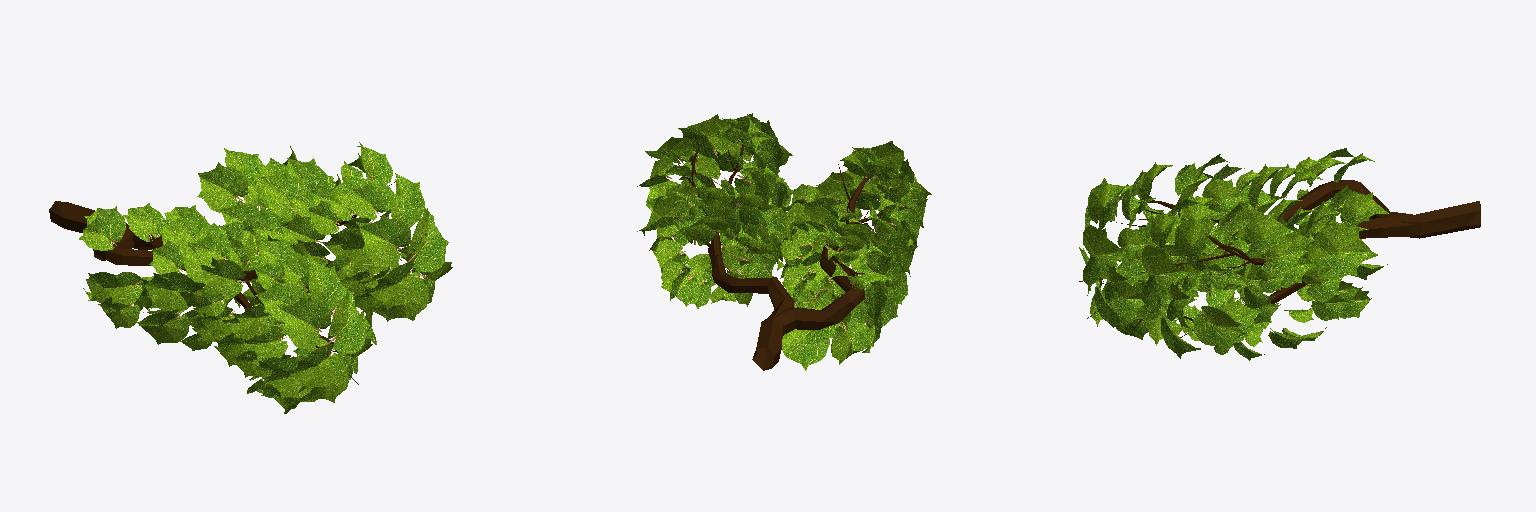
The picture shows the model from 3 angles: view 1: azimuth 30°, elevation 25°; view 2: azimuth 150°, elevation 25°; view 3: azimuth 270°, elevation 25°; orthographic projection.
Parts seen in each view (by area): view 1: tree.001, Circle.221_Circle.226, Circle.200_Circle.204, Circle.031_Circle.032, Circle.202_Circle.206, Circle.180_Circle.224, Circle.220_Circle.225, Circle.201_Circle.205, Circle.009, Circle.089_Circle.090, Circle.077_Circle.078, Circle.064_Circle.065 (+28 smaller); view 2: tree.001, Circle.074_Circle.075, Circle.179_Circle.181, Circle.073_Circle.074, Circle.047_Circle.048, Circle.004, Circle.191_Circle.194, Circle.015, Circle.175_Circle.177, Circle.132_Circle.133, Circle.052_Circle.053, Circle.092_Circle.093 (+9 smaller); view 3: tree.001, Circle.047_Circle.048, Circle.202_Circle.206, Circle.180_Circle.224, Circle.181_Circle.183, Circle.004, Circle.179_Circle.181, Circle.036_Circle.037, Circle.224_Circle.229, Circle.003, Circle.092_Circle.093, Circle.237_Circle.242 (+9 smaller).
Part boxes in pixels (bbox=[...]): tree.001: bbox=[49, 182, 426, 384]; Circle.221_Circle.226: bbox=[276, 296, 331, 348]; Circle.200_Circle.204: bbox=[356, 214, 410, 267]; Circle.031_Circle.032: bbox=[197, 162, 248, 212]; Circle.202_Circle.206: bbox=[407, 208, 448, 272]; Circle.180_Circle.224: bbox=[327, 289, 368, 353]; Circle.220_Circle.225: bbox=[284, 344, 339, 391]; Circle.201_Circle.205: bbox=[363, 263, 419, 309]; Circle.009: bbox=[259, 169, 307, 219]; Circle.089_Circle.090: bbox=[141, 272, 193, 313]; Circle.077_Circle.078: bbox=[201, 257, 245, 298]; Circle.064_Circle.065: bbox=[135, 310, 189, 344]; tree.001: bbox=[678, 135, 884, 370]; Circle.074_Circle.075: bbox=[782, 327, 829, 370]; Circle.179_Circle.181: bbox=[678, 114, 731, 157]; Circle.073_Circle.074: bbox=[831, 321, 873, 364]; Circle.047_Circle.048: bbox=[637, 195, 689, 235]; Circle.004: bbox=[645, 137, 692, 165]; Circle.191_Circle.194: bbox=[760, 209, 793, 261]; Circle.015: bbox=[791, 206, 829, 231]; Circle.175_Circle.177: bbox=[679, 156, 720, 187]; Circle.132_Circle.133: bbox=[734, 262, 773, 306]; Circle.052_Circle.053: bbox=[653, 239, 685, 272]; Circle.092_Circle.093: bbox=[804, 181, 843, 206]; tree.001: bbox=[1079, 180, 1480, 337]; Circle.047_Circle.048: bbox=[1314, 223, 1377, 279]; Circle.202_Circle.206: bbox=[1142, 245, 1188, 304]; Circle.180_Circle.224: bbox=[1083, 225, 1125, 284]; Circle.181_Circle.183: bbox=[1193, 306, 1246, 349]; Circle.004: bbox=[1244, 211, 1295, 258]; Circle.179_Circle.181: bbox=[1174, 216, 1219, 267]; Circle.036_Circle.037: bbox=[1261, 235, 1307, 277]; Circle.224_Circle.229: bbox=[1088, 178, 1132, 229]; Circle.003: bbox=[1340, 192, 1388, 227]; Circle.092_Circle.093: bbox=[1202, 179, 1249, 219]; Circle.237_Circle.242: bbox=[1110, 281, 1145, 316].
Size of the model in its own units: 0.9163 by 0.5497 by 1.08.
Materials: 1 (1 with a texture image).